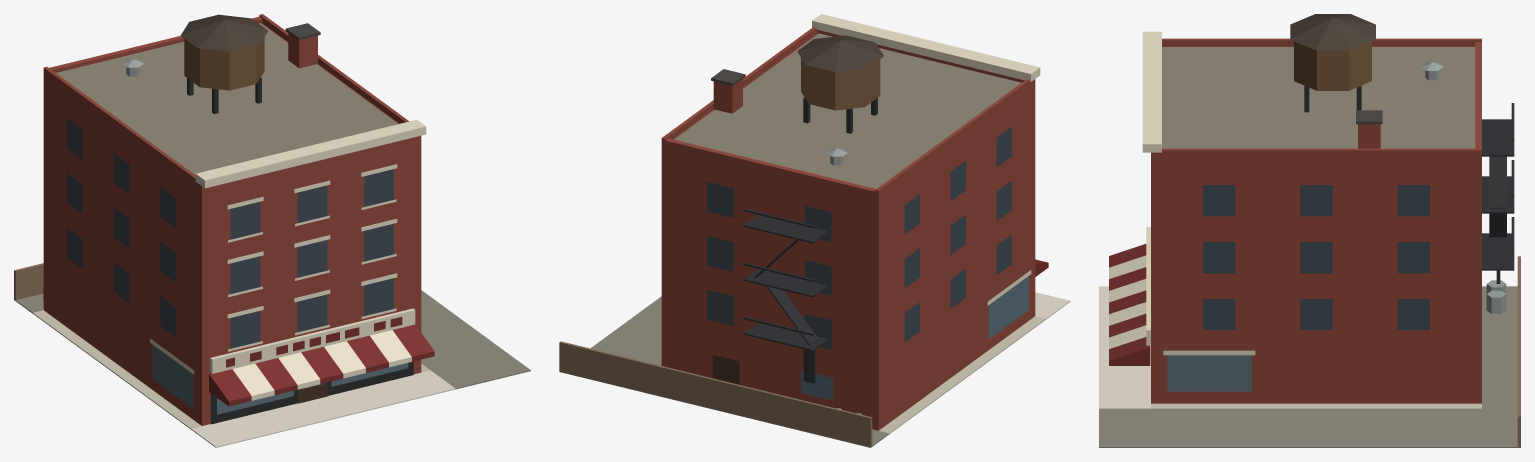
Rendered from shop_t.glb.
3 renders of one model, left to right at view 1: azimuth 30°, elevation 25°; view 2: azimuth 150°, elevation 25°; view 3: azimuth 270°, elevation 25°, orthographic. The views are drawn at different scales.
Parts seen in each view (by area): view 1: shop_t; view 2: shop_t; view 3: shop_t.
Boxes of the visible parts, bbox=[...] form: shop_t: bbox=[14, 14, 530, 447]; shop_t: bbox=[559, 14, 1070, 447]; shop_t: bbox=[1099, 14, 1520, 447].
Bounding box in the file's own units: 18 × 17.33 × 20.
